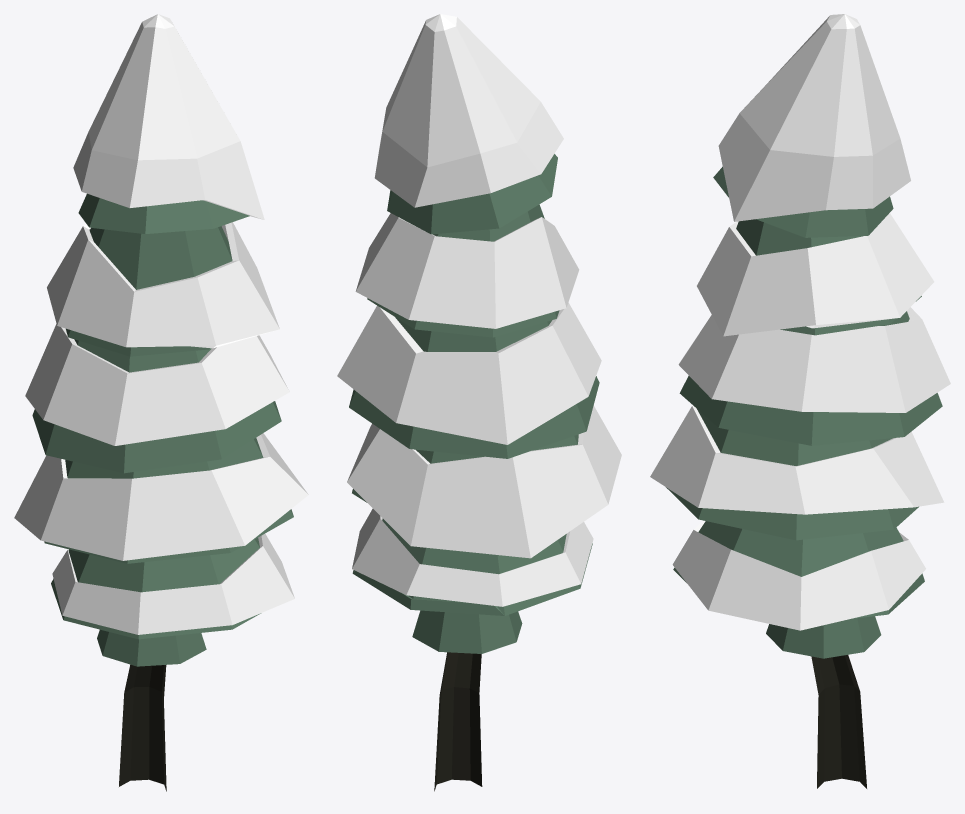
Rendered from Snowtree3.fbx.
3 views of the same model, side by side, from view 1: azimuth 30°, elevation 25°; view 2: azimuth 150°, elevation 25°; view 3: azimuth 270°, elevation 25° (orthographic).
Visible parts, largest first — view 1: Snowtree3; view 2: Snowtree3; view 3: Snowtree3.
Boxes of the visible parts, box(x1,y1,x2,y2) form: Snowtree3: box(14, 14, 308, 791); Snowtree3: box(337, 14, 621, 791); Snowtree3: box(650, 14, 950, 788).
Bounding box in the file's own units: 57.73 × 174 × 60.52.
